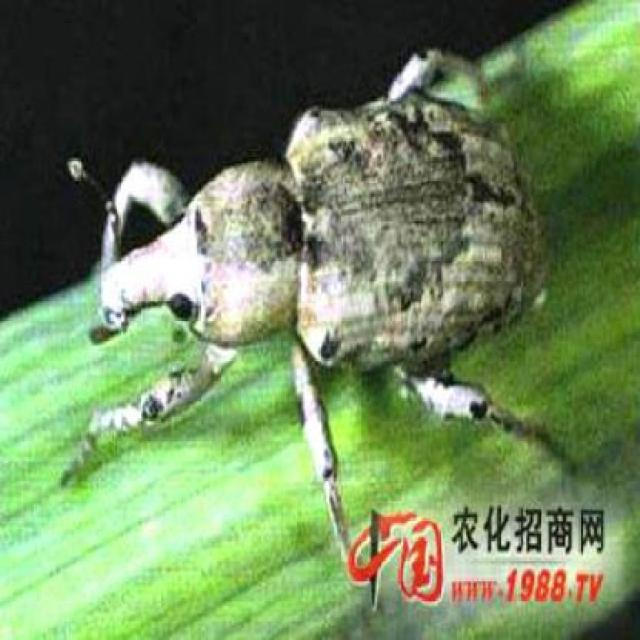rice-bug: (95, 53, 543, 405)
